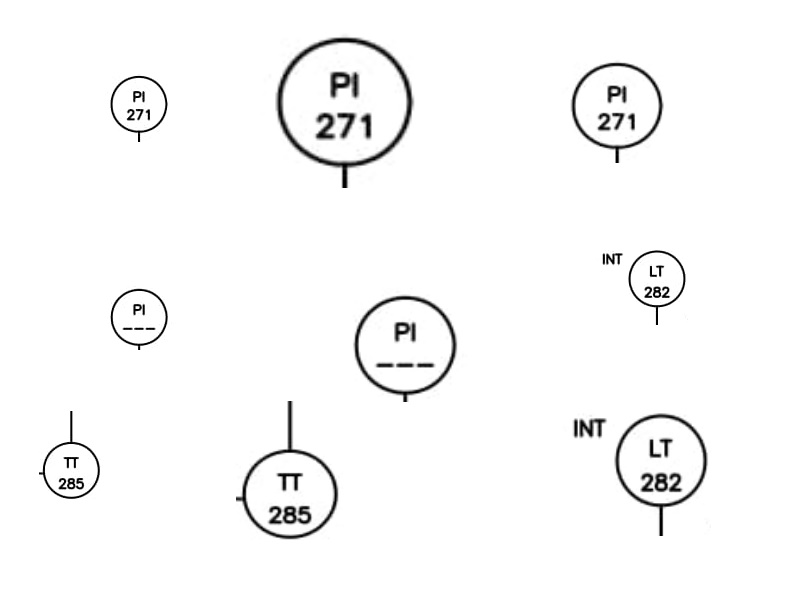Inline Instrument: (273, 33, 415, 170), (609, 409, 708, 508), (565, 59, 667, 153), (241, 446, 338, 540), (626, 248, 688, 309), (41, 441, 103, 502), (107, 75, 170, 133)
